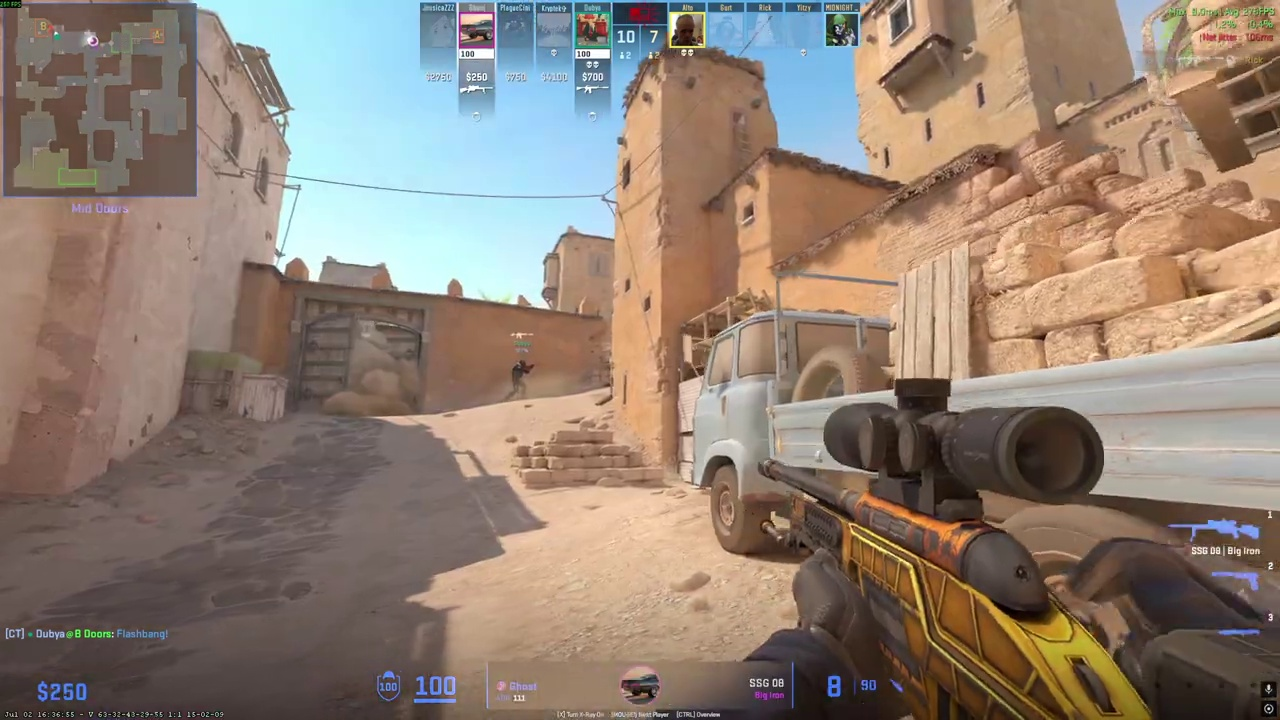CT: (508, 359, 531, 401)
